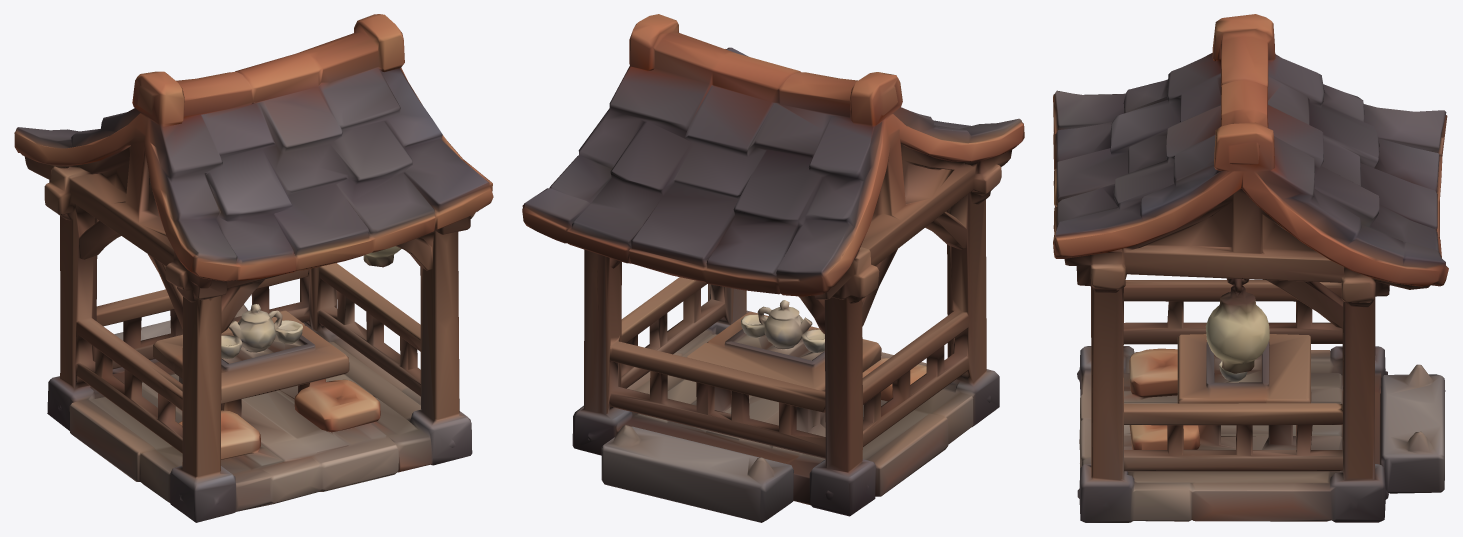
Rendered from pavilion-BXmi88rQ.glb.
The picture shows the model from 3 angles, left to right: view 1: azimuth 30°, elevation 25°; view 2: azimuth 150°, elevation 25°; view 3: azimuth 270°, elevation 25°; orthographic projection. The views are drawn at different scales.
Visible parts, largest first — view 1: tripo_node_3d08c910-8878-4f08-94d2-8422b33d07fb; view 2: tripo_node_3d08c910-8878-4f08-94d2-8422b33d07fb; view 3: tripo_node_3d08c910-8878-4f08-94d2-8422b33d07fb.
Boxes of the visible parts, x1,y1,x2,y2 form: tripo_node_3d08c910-8878-4f08-94d2-8422b33d07fb: [14, 14, 493, 522]; tripo_node_3d08c910-8878-4f08-94d2-8422b33d07fb: [522, 14, 1024, 522]; tripo_node_3d08c910-8878-4f08-94d2-8422b33d07fb: [1053, 14, 1448, 522].
Bounding box in the file's own units: 0.8418 × 0.9788 × 0.8968.
